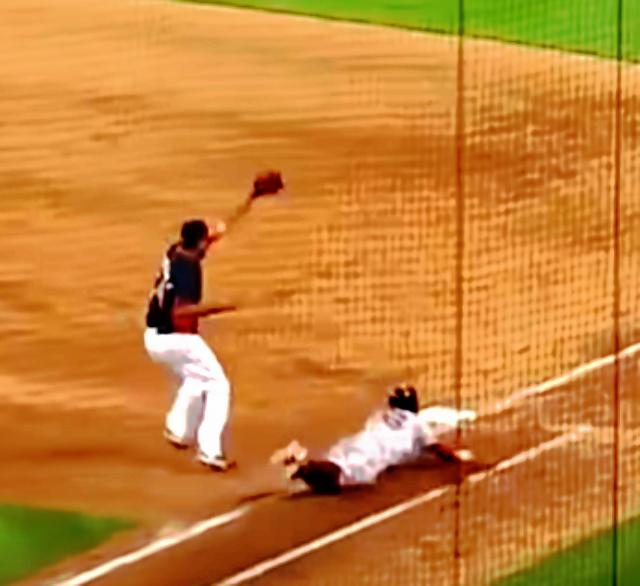jatuh: (262, 378, 476, 501)
